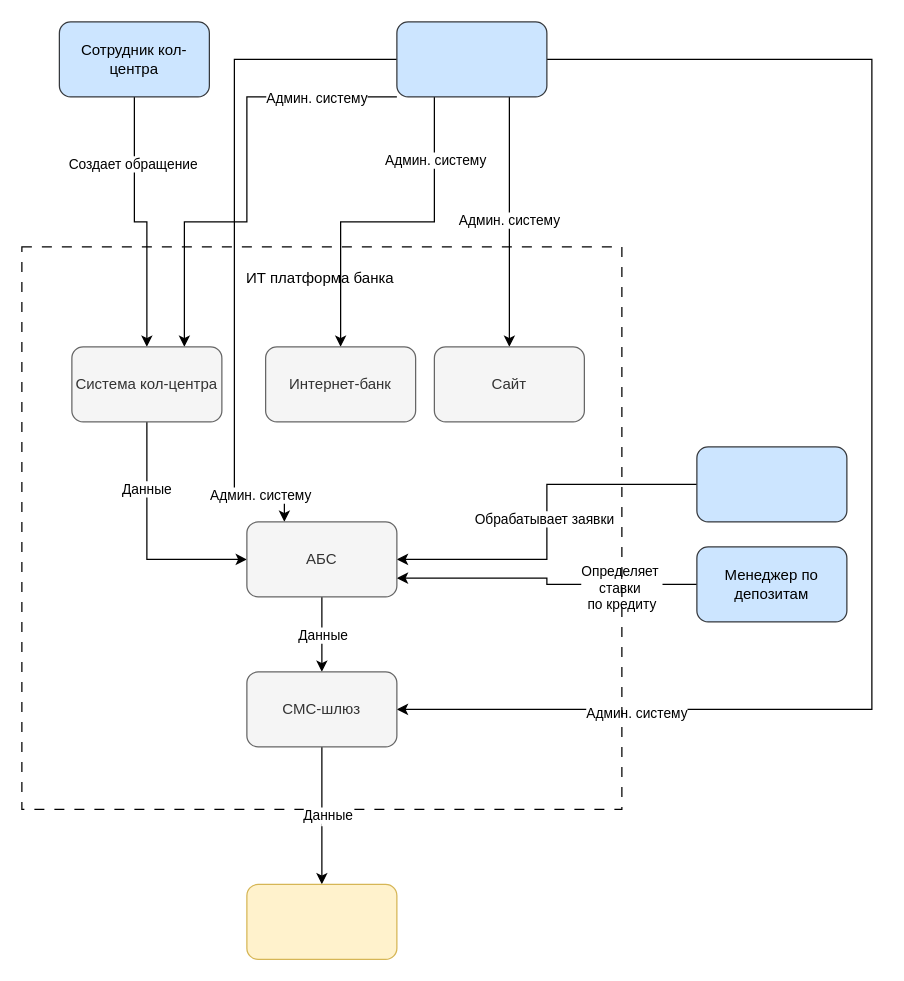
Image size: 904x981. Some labels were removed from this diagram. Each missing label, with the centre of its shape:
"ит-специалист" belongs at point (471, 59).
"Менеджер по кредитам" belongs at point (771, 484).
"Телеком-опертаор" belongs at point (321, 921).
